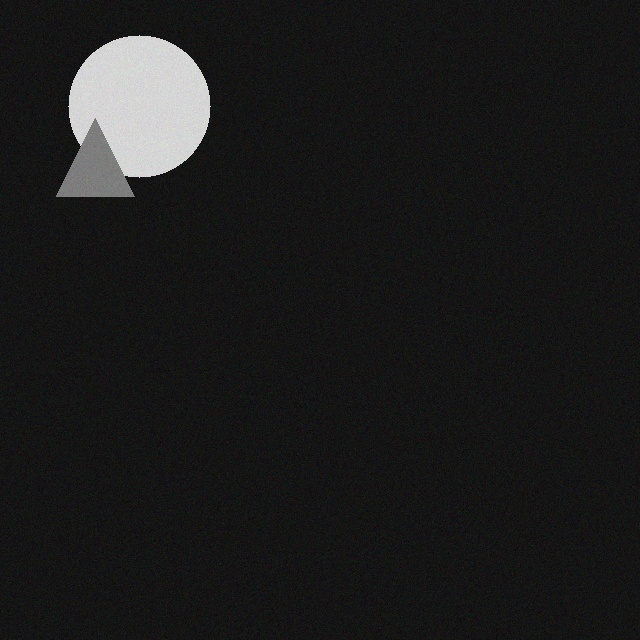circle: (56, 49, 198, 191)
triangle: (44, 132, 122, 210)
